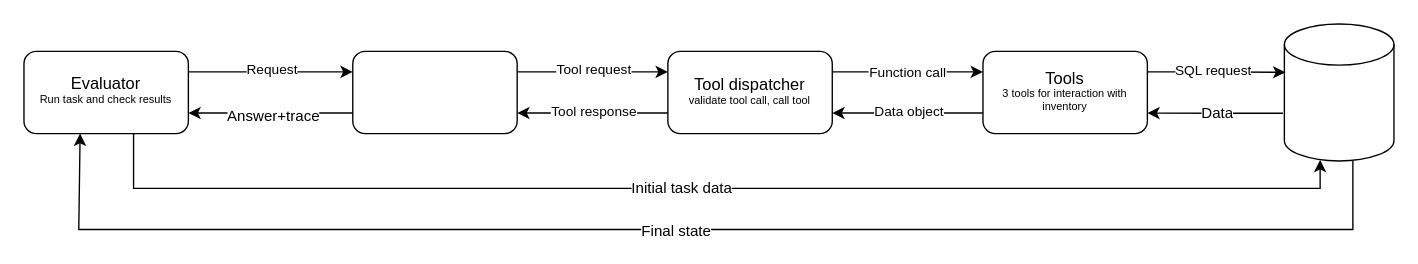
Some shapes in this 1418 by 264 pixel diagram are drawn without their labels. The box of each missing label's shape, as (x1, y1, x2, y2) in pixels:
SQLite inventory Fresh DB per evaluation task: (1283, 23, 1394, 161)
System under evaluation Agent or baseline: (351, 50, 517, 134)
